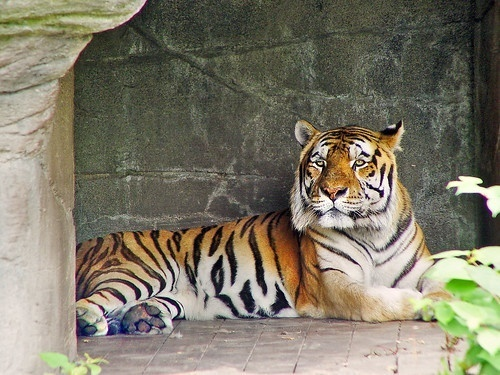tigre: (68, 115, 463, 347)
